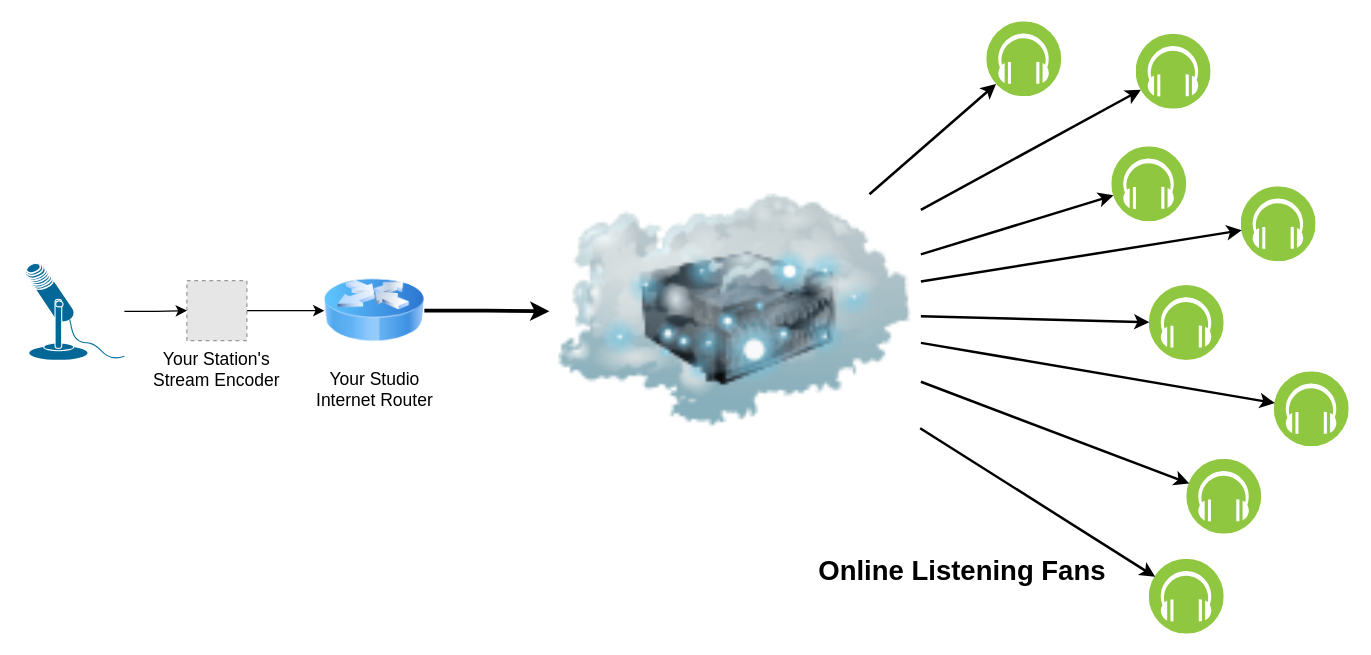
This 1371x655 diagram has some shape labels left out. Grey dashed boxes stand in for pictures. The shapes that lost their labels are listed below. From the top down, each one's box as (x1, y1, x2, y2) in pixels, then its label:
(22, 260, 125, 361): Your Station's Audio
(549, 194, 920, 428): Pacifica Stream Server in the Internet
